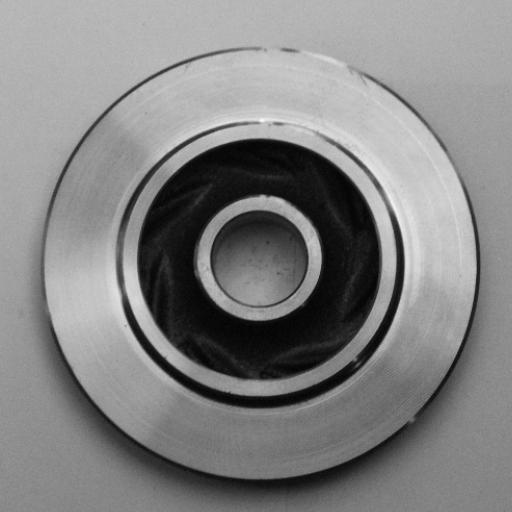scratch: (268, 34, 375, 86), (250, 106, 334, 147)
unpolished_casting: (37, 46, 487, 485)
